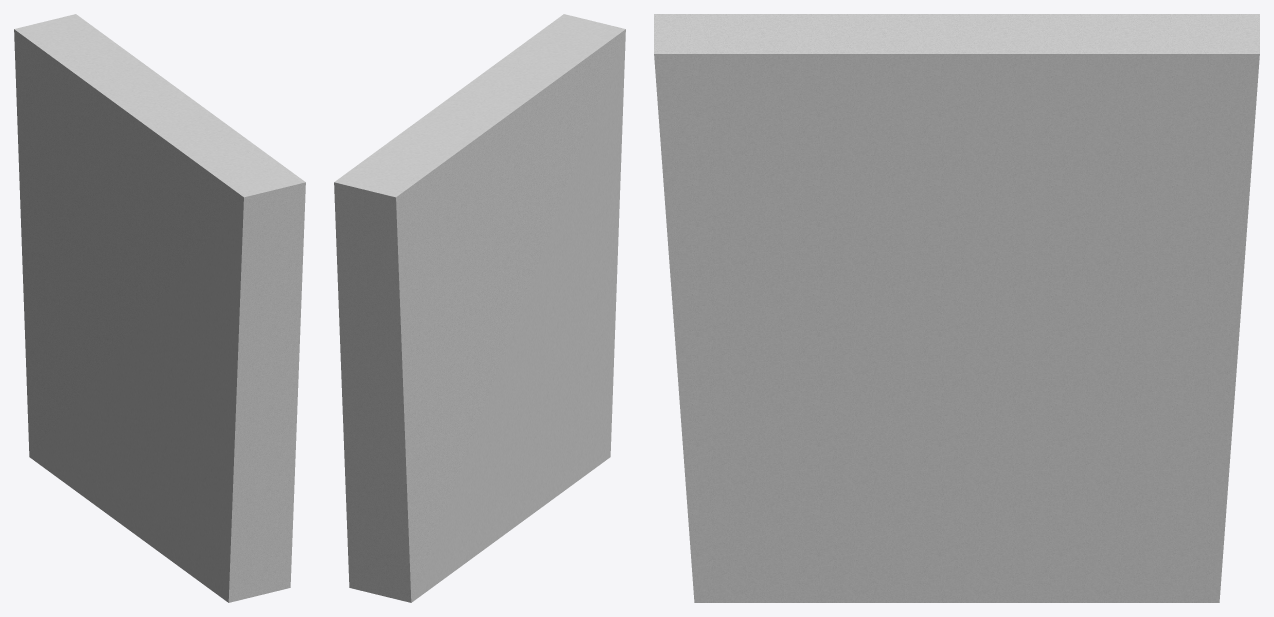
File: sweethome3d-scopia-bridge-pillar.glb
3 views of the same model, side by side, from view 1: azimuth 30°, elevation 25°; view 2: azimuth 150°, elevation 25°; view 3: azimuth 270°, elevation 25° (orthographic). The views are drawn at different scales.
Parts seen in each view (by area): view 1: pole1Voie_Cube; view 2: pole1Voie_Cube; view 3: pole1Voie_Cube.
Part boxes in pixels (x1=…): pole1Voie_Cube: x1=14, y1=14, x2=305, y2=602; pole1Voie_Cube: x1=334, y1=14, x2=625, y2=602; pole1Voie_Cube: x1=654, y1=14, x2=1259, y2=602.
Size of the model in its own units: 70 by 450 by 450.
Materials: 1 (1 with a texture image).
